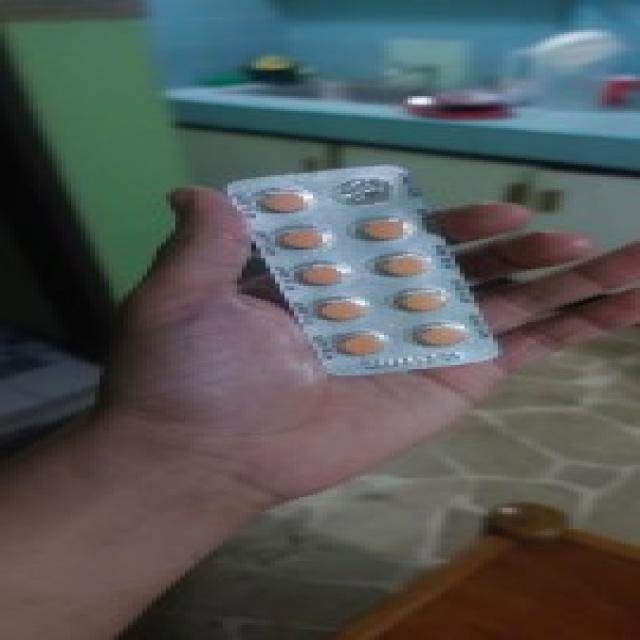Cacat: (217, 164, 505, 382)
Kemasan: (316, 175, 406, 210)
